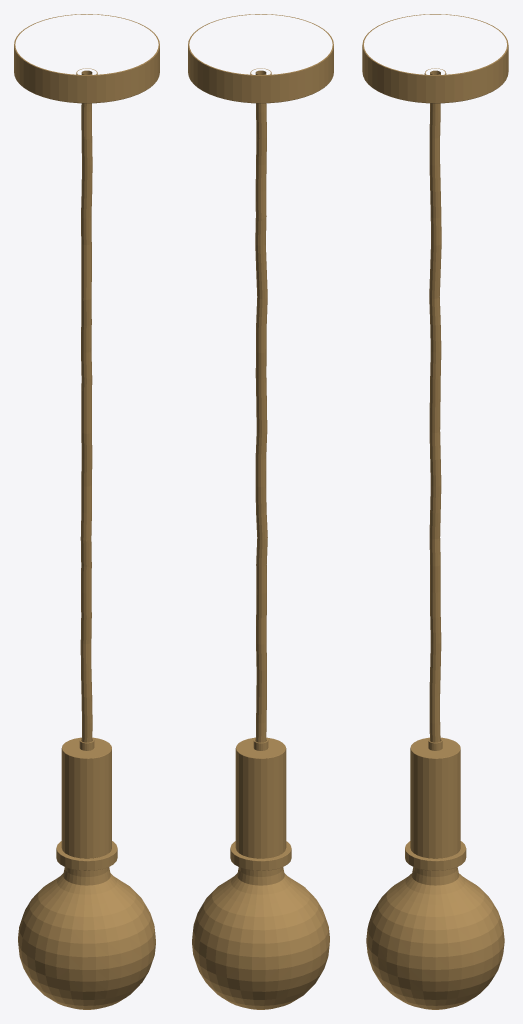
The model's file is ferm-socket-pendant.glb.
3 views of the same model, side by side, from view 1: azimuth 30°, elevation 25°; view 2: azimuth 150°, elevation 25°; view 3: azimuth 270°, elevation 25° (orthographic).
Parts seen in each view (by area): view 1: product; view 2: product; view 3: product.
Part boxes in pixels (x1,y1,x2,y2): product: (14,14,159,1009); product: (188,14,333,1009); product: (362,14,508,1009).
Bounding box in the file's own units: 0.1381 × 1 × 0.1381.
